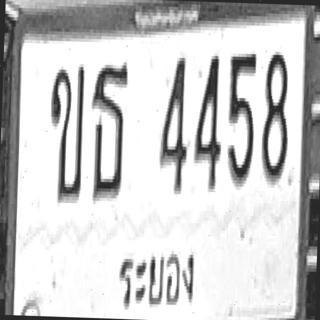A02: (46, 61, 84, 202)
A24: (88, 58, 128, 198)
N04: (158, 54, 189, 191), (193, 51, 223, 188)
N05: (226, 50, 256, 184)
N08: (260, 48, 290, 182)
P53: (115, 240, 200, 320)
